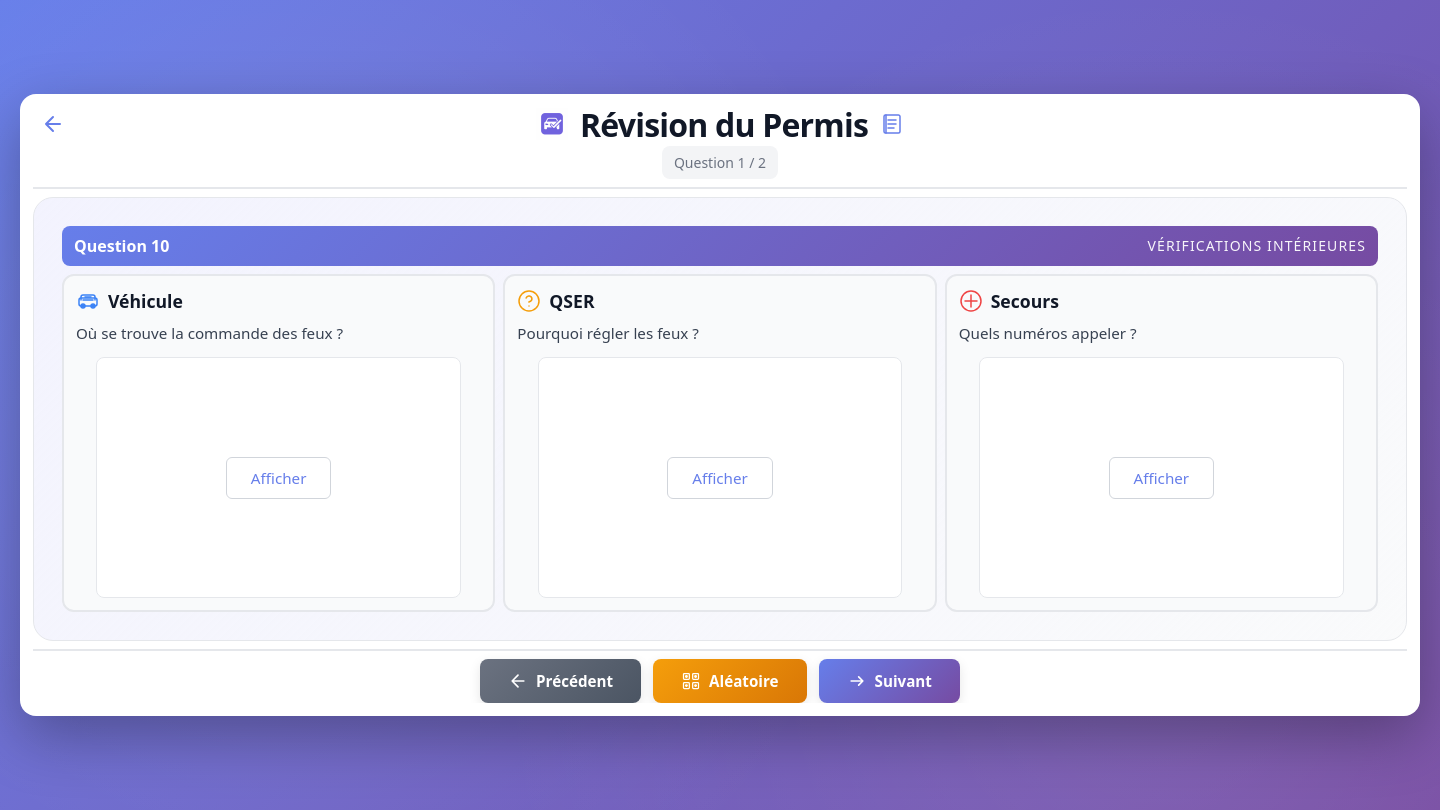
it: Revision page › revient à la première question après la dernière
Step 1. Click the button named "Question suivante" → x=889, y=681, box [819,659,960,703]
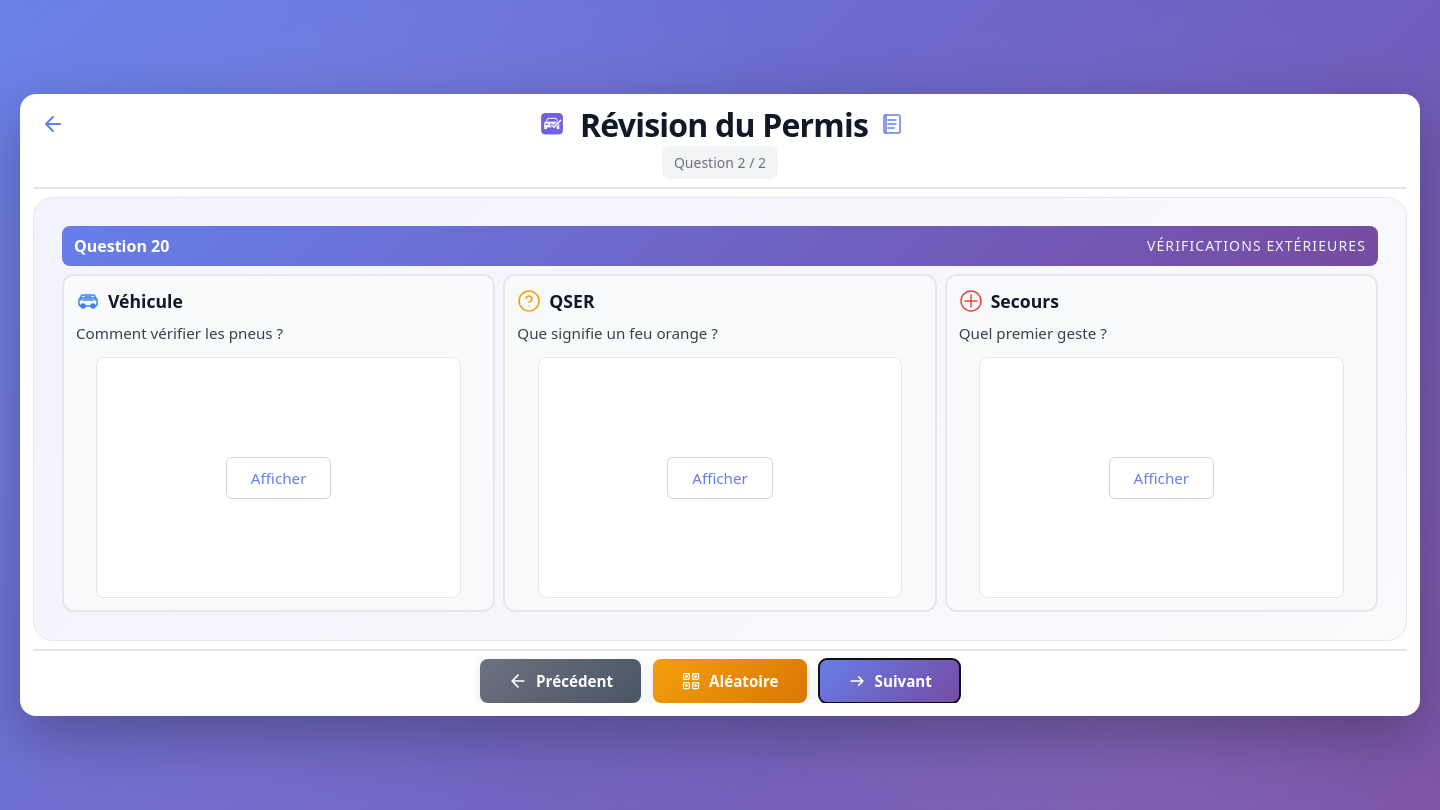
Step 2. Click the button named "Question suivante" → x=889, y=681, box [819,659,960,703]
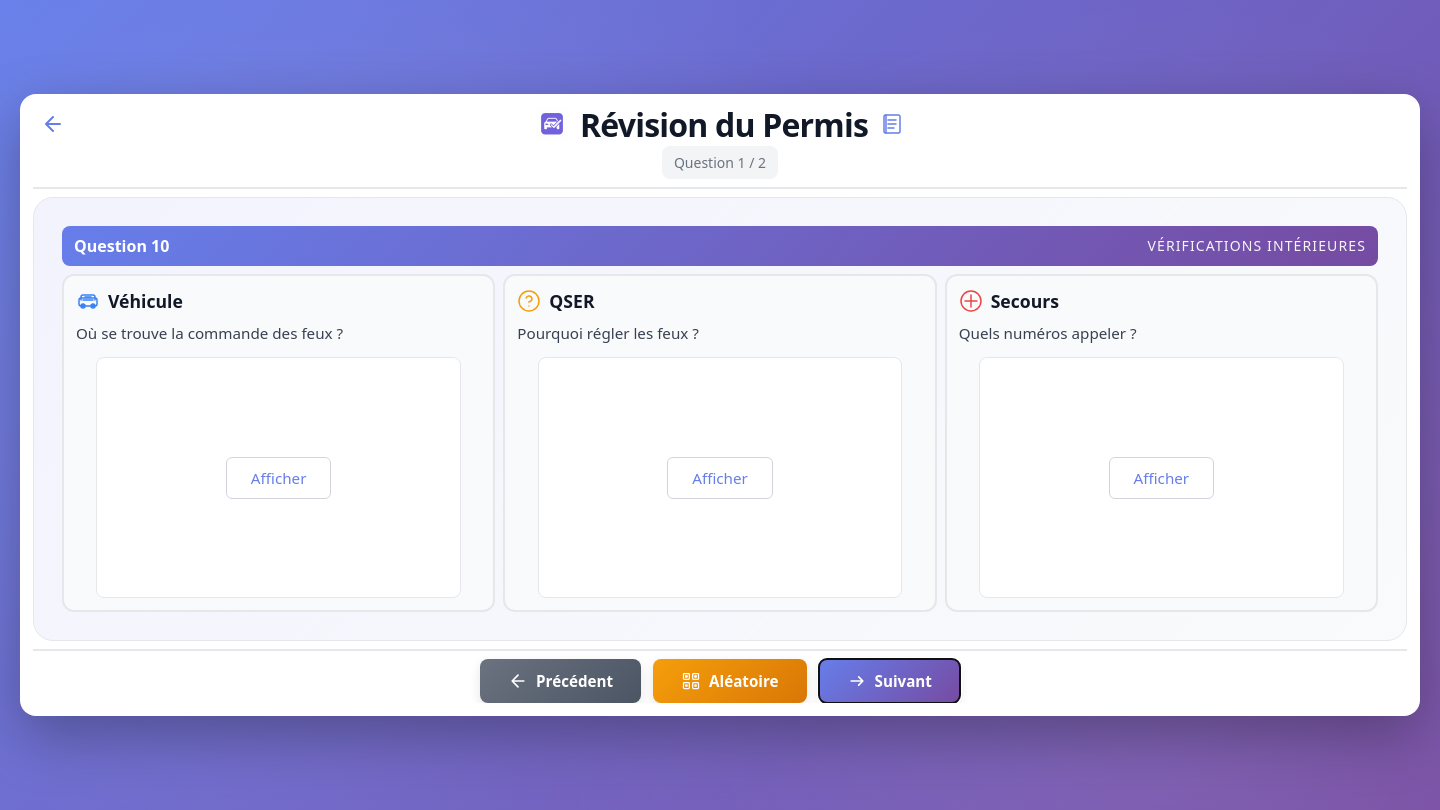
Expected: the text "Question 1 / 2" is shown, [662,146,778,179]
Expected: the text "Question 10" is shown, [74,234,169,258]
